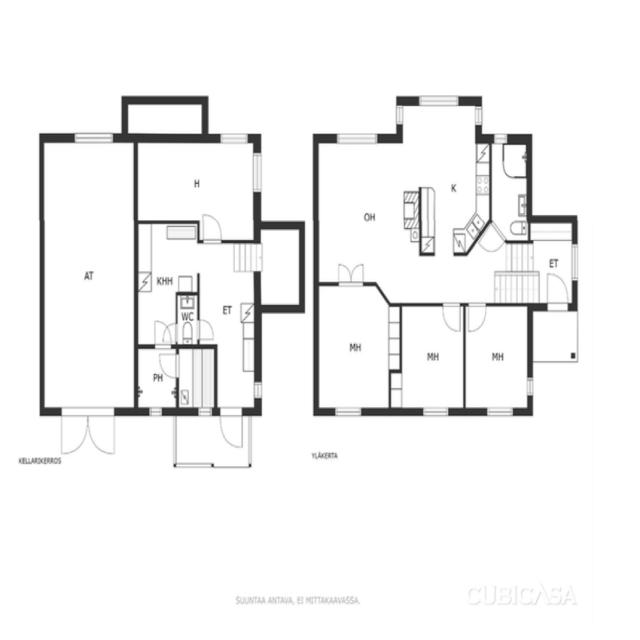door: (54, 402, 122, 461), (218, 404, 246, 452), (542, 269, 572, 311), (199, 209, 225, 245), (335, 261, 366, 289), (465, 299, 488, 336), (152, 316, 176, 351), (440, 299, 463, 335), (479, 222, 506, 252), (157, 350, 180, 381), (196, 316, 216, 344)
window: (136, 347, 178, 414), (67, 124, 119, 148), (332, 125, 384, 148), (413, 89, 464, 112), (249, 147, 266, 199), (216, 127, 254, 149), (329, 402, 366, 422), (568, 240, 582, 286), (418, 404, 453, 422), (482, 404, 517, 421), (392, 100, 408, 130), (144, 402, 168, 420), (472, 102, 485, 132), (252, 378, 266, 405), (194, 403, 215, 420), (490, 130, 510, 146), (525, 374, 536, 401)
zone: (41, 133, 139, 412), (318, 134, 418, 286), (138, 137, 256, 236), (317, 283, 401, 411), (417, 107, 488, 255), (206, 246, 257, 410), (136, 220, 198, 346), (395, 303, 464, 412), (465, 304, 530, 410), (489, 138, 528, 242), (257, 225, 304, 308), (176, 346, 217, 414), (137, 345, 178, 412), (176, 298, 200, 346)
